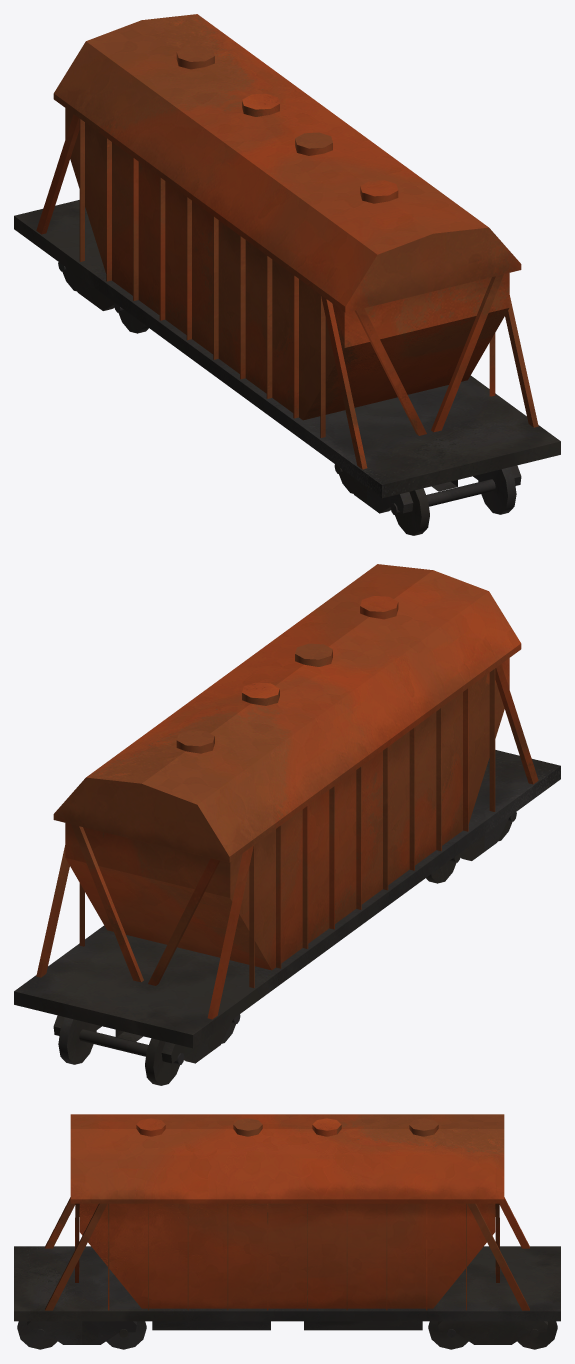
Rendered from ВАГОН СУХИХ ГРУЗОВ.fbx.
3 renders of one model, top to bottom at view 1: azimuth 30°, elevation 25°; view 2: azimuth 150°, elevation 25°; view 3: azimuth 270°, elevation 25°, orthographic. The views are drawn at different scales.
Parts seen in each view (by area): view 1: сухогруз; view 2: сухогруз; view 3: сухогруз.
Part boxes in pixels (bbox=[...]): сухогруз: bbox=[14, 14, 560, 535]; сухогруз: bbox=[14, 564, 560, 1085]; сухогруз: bbox=[14, 1114, 560, 1349].
Size of the model in its own units: 5.2 by 7.76 by 18.5.
1 material, 1 textured.
